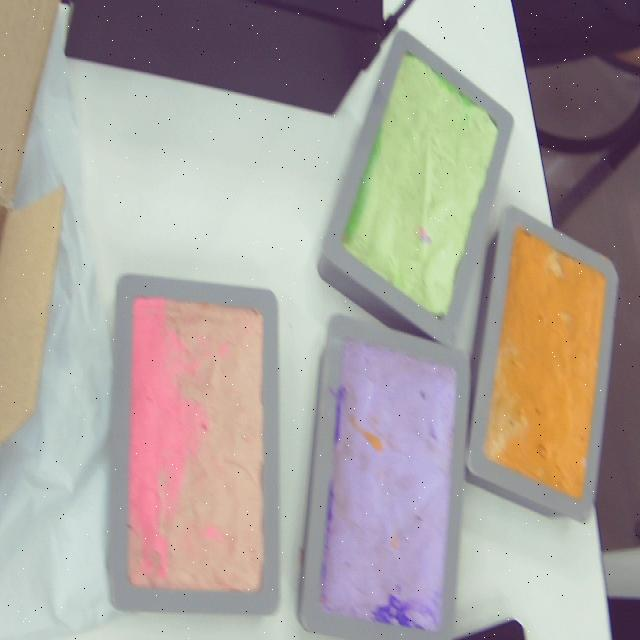block: (314, 31, 513, 355), (108, 273, 286, 618), (294, 311, 468, 640), (460, 205, 619, 530)
